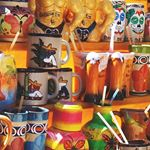cups: (26, 31, 73, 71), (16, 67, 60, 107), (47, 66, 84, 106)
